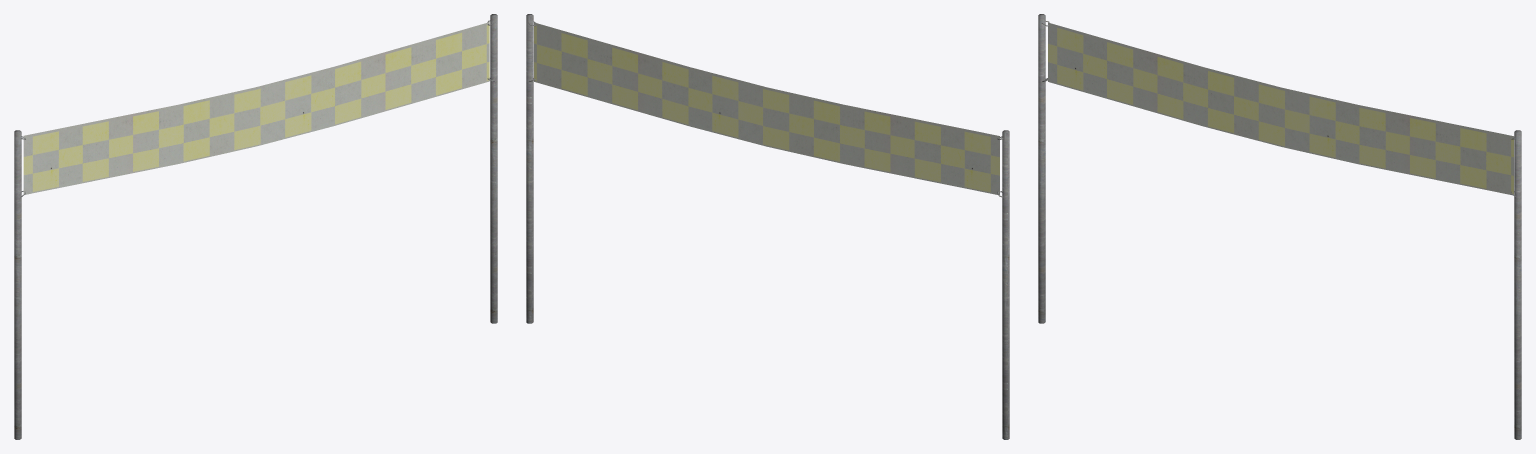
The model's file is banner_tall.fbx.
The picture shows the model from 3 angles, left to right: view 1: azimuth 30°, elevation 25°; view 2: azimuth 150°, elevation 25°; view 3: azimuth 330°, elevation 25°; orthographic projection.
Visible parts, largest first — view 1: banner; view 2: banner; view 3: banner.
Boxes of the visible parts, x1,y1,x2,y2 form: banner: (14, 14, 497, 439); banner: (526, 14, 1009, 439); banner: (1038, 14, 1521, 439).
Bounding box in the file's own units: 186 × 113 × 3.22.
